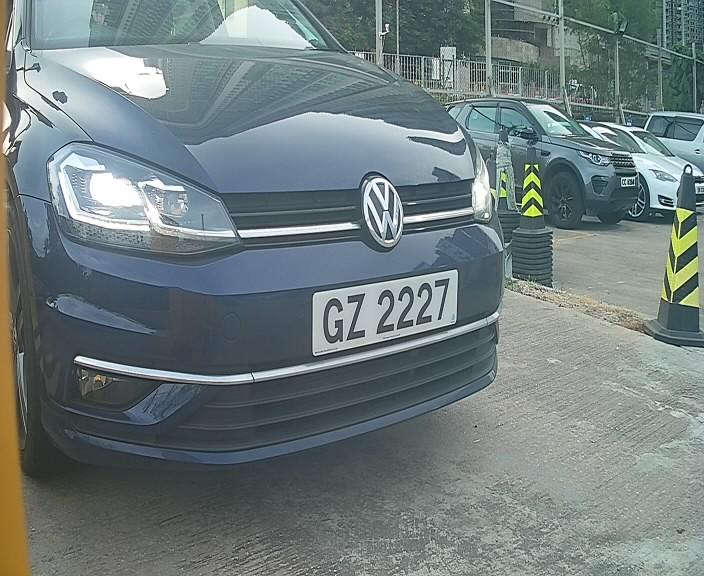License Plate: (302, 268, 466, 358)
